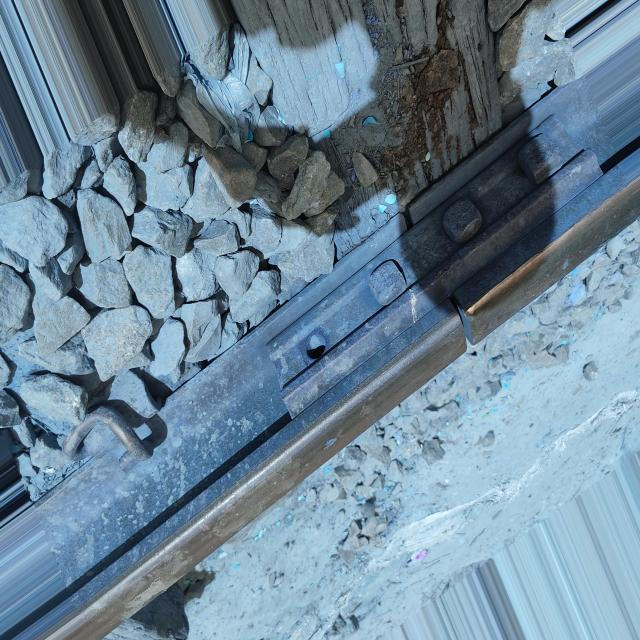Good Fasteners: (268, 116, 602, 417), (63, 406, 153, 471)
